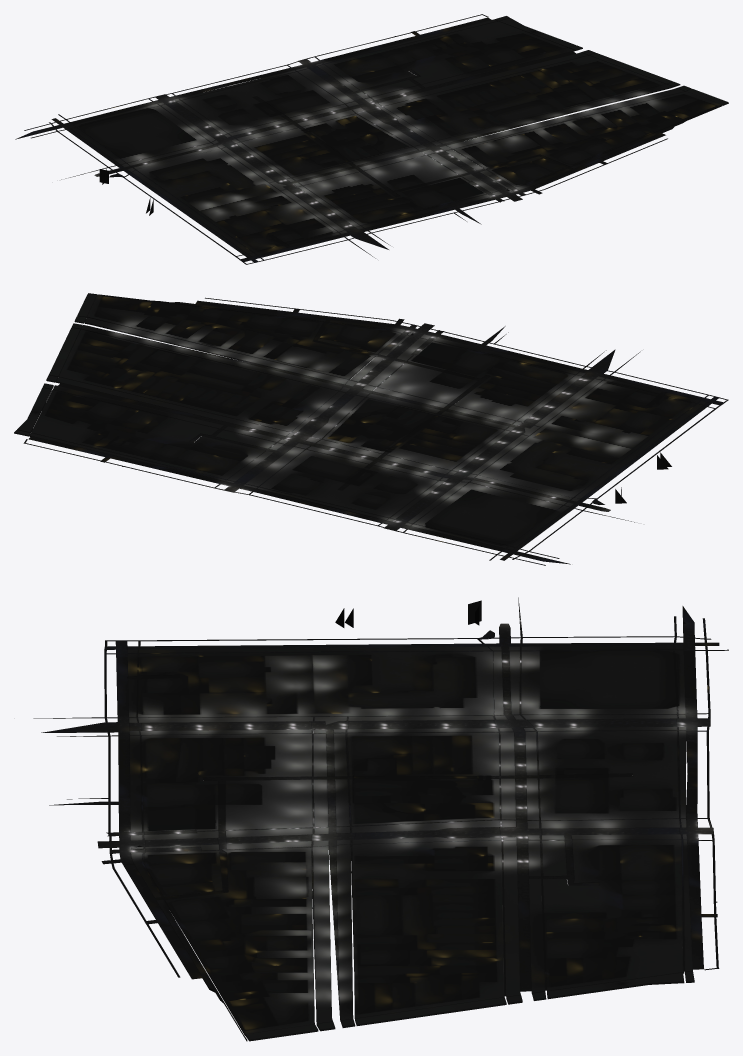
File: road_baked.fbx
3 renders of one model, top to bottom at view 1: azimuth 30°, elevation 25°; view 2: azimuth 150°, elevation 25°; view 3: azimuth 270°, elevation 25°, orthographic. The views are drawn at different scales.
Visible parts, largest first — view 1: SurfaceArea5655.001, SurfaceArea5656.001; view 2: SurfaceArea5655.001, SurfaceArea5656.001; view 3: SurfaceArea5655.001, SurfaceArea5656.001.
Part boxes in pixels (x1=…): SurfaceArea5655.001: x1=68, y1=16, x2=728, y2=256; SurfaceArea5656.001: x1=15, y1=14, x2=667, y2=264; SurfaceArea5655.001: x1=14, y1=293, x2=706, y2=549; SurfaceArea5656.001: x1=23, y1=297, x2=728, y2=565; SurfaceArea5655.001: x1=127, y1=646, x2=694, y2=1041; SurfaceArea5656.001: x1=33, y1=597, x2=728, y2=1014.
Size of the model in its own units: 46282 by 1072 by 31363.
2 materials, 2 textured.
